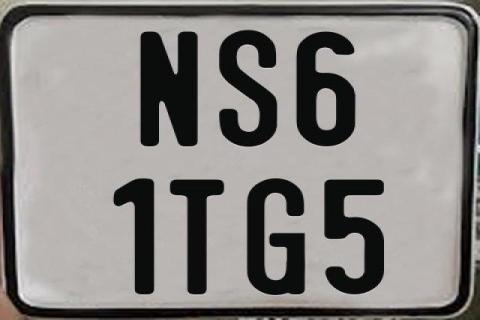0: (296, 30, 360, 146), (323, 179, 385, 297), (113, 177, 154, 295)
G: (247, 177, 306, 299)
N: (140, 32, 201, 152)
S: (216, 29, 275, 148)
T: (168, 177, 224, 297)
